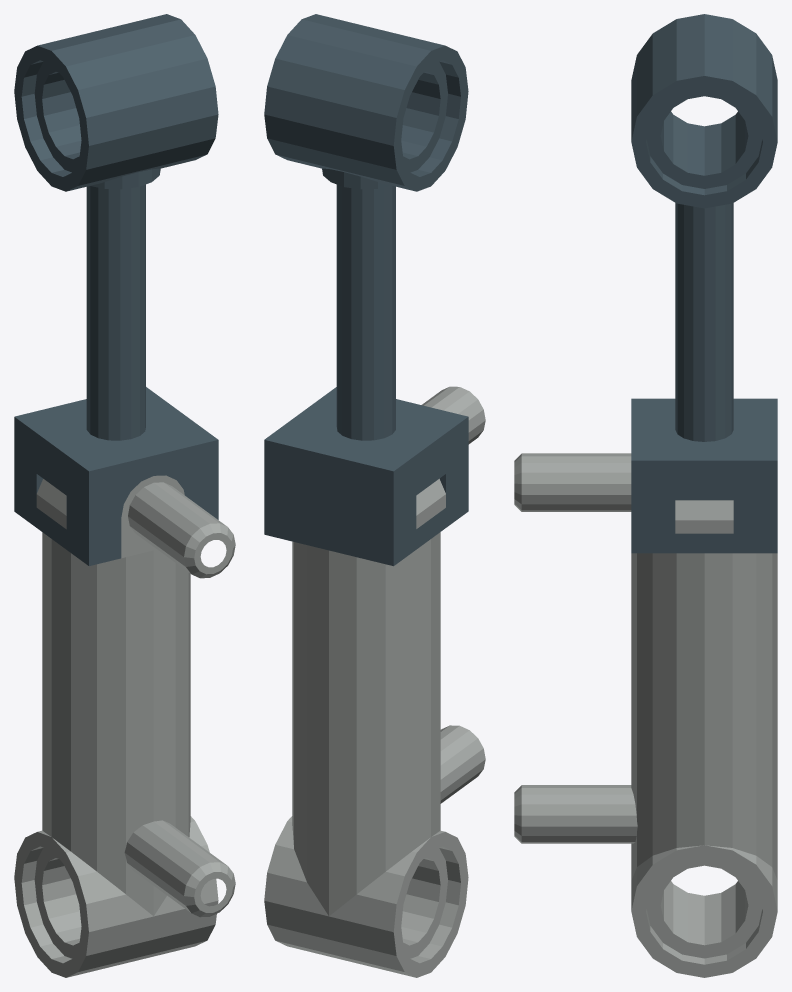
3 renders of one model, left to right at view 1: azimuth 30°, elevation 25°; view 2: azimuth 150°, elevation 25°; view 3: azimuth 270°, elevation 25°, orthographic. The views are drawn at different scales.
Visible parts, largest first — view 1: world; view 2: world; view 3: world.
Part boxes in pixels (left/top/right/bottom): world: left=14, top=14, right=235, bottom=977; world: left=264, top=14, right=485, bottom=977; world: left=514, top=14, right=777, bottom=977.
Size of the model in its own units: 0.008 by 0.0544 by 0.0144.
